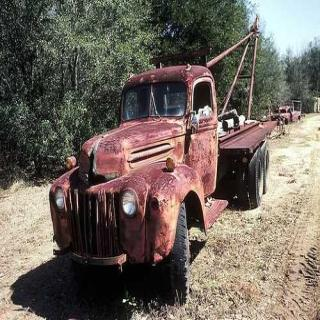Towing_truck: (47, 13, 278, 301)
